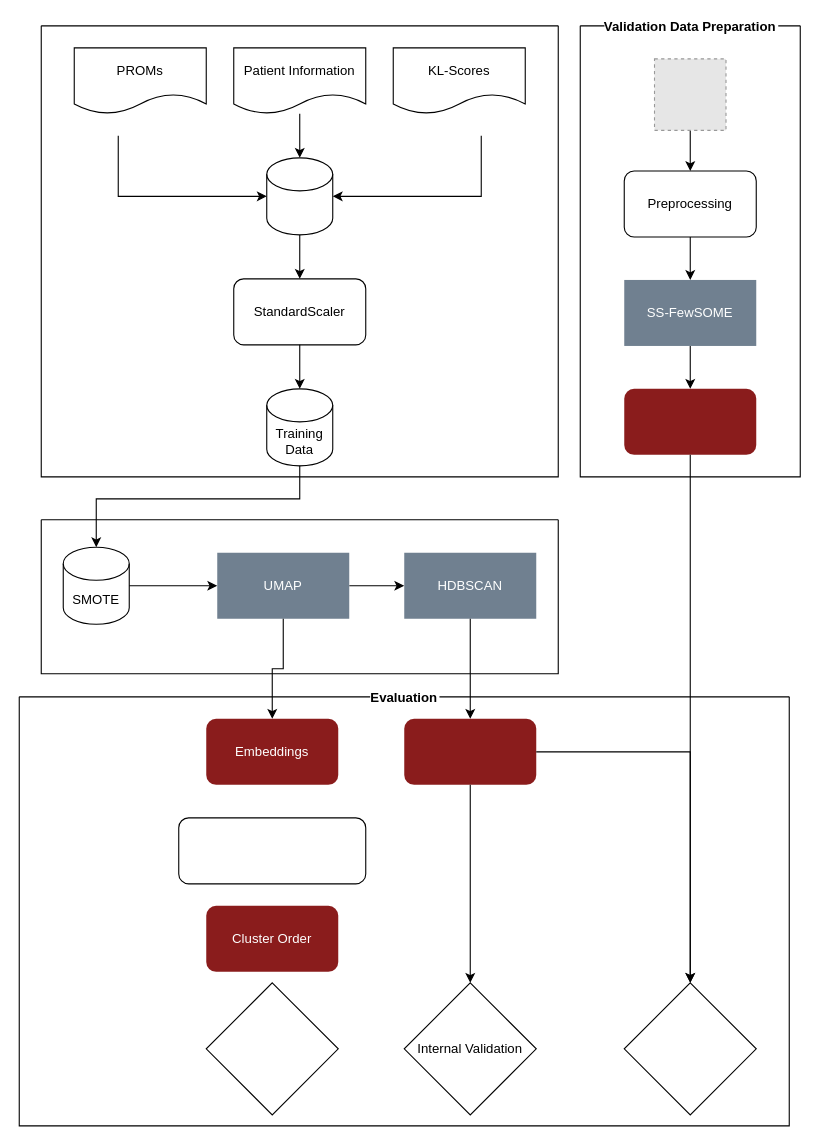
Some shapes in this 820 by 1145 pixel diagram are drawn without their labels. Grey dashed boxes stand in for pictures. The shapes that lost their labels are listed below. From the top down, each one's box as (x1, y1, x2, y2) in pixels, then its label:
(266, 157, 333, 235): Dataset
(40, 25, 558, 477): Training Data Preparation
(624, 388, 756, 454): Anomaly Score
(40, 519, 558, 674): Unsupervised Clustering
(404, 718, 536, 784): Clusters
(178, 817, 366, 884): Centroid & Distance Calculation
(205, 982, 338, 1115): Benchmarks
(623, 982, 756, 1115): External Validation
